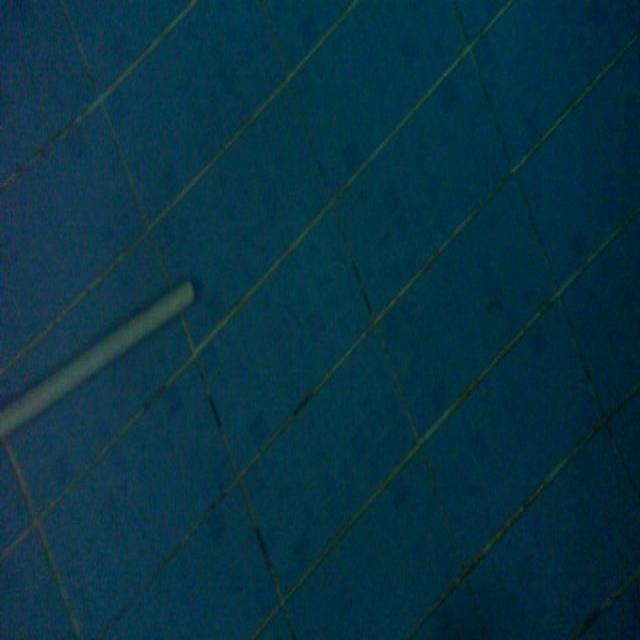Cube: (0, 274, 196, 450)
